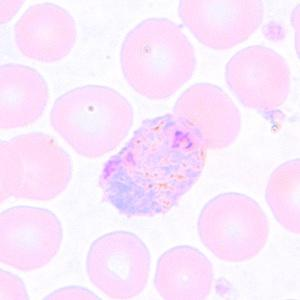Infected: (99, 112, 207, 217)
Uninfected: (120, 17, 198, 99), (50, 84, 134, 158), (196, 192, 270, 261), (7, 133, 74, 203), (86, 230, 152, 300), (225, 45, 292, 111), (175, 81, 241, 148), (0, 204, 63, 272), (178, 0, 265, 49), (14, 4, 75, 62), (155, 245, 213, 300), (0, 65, 49, 130)
